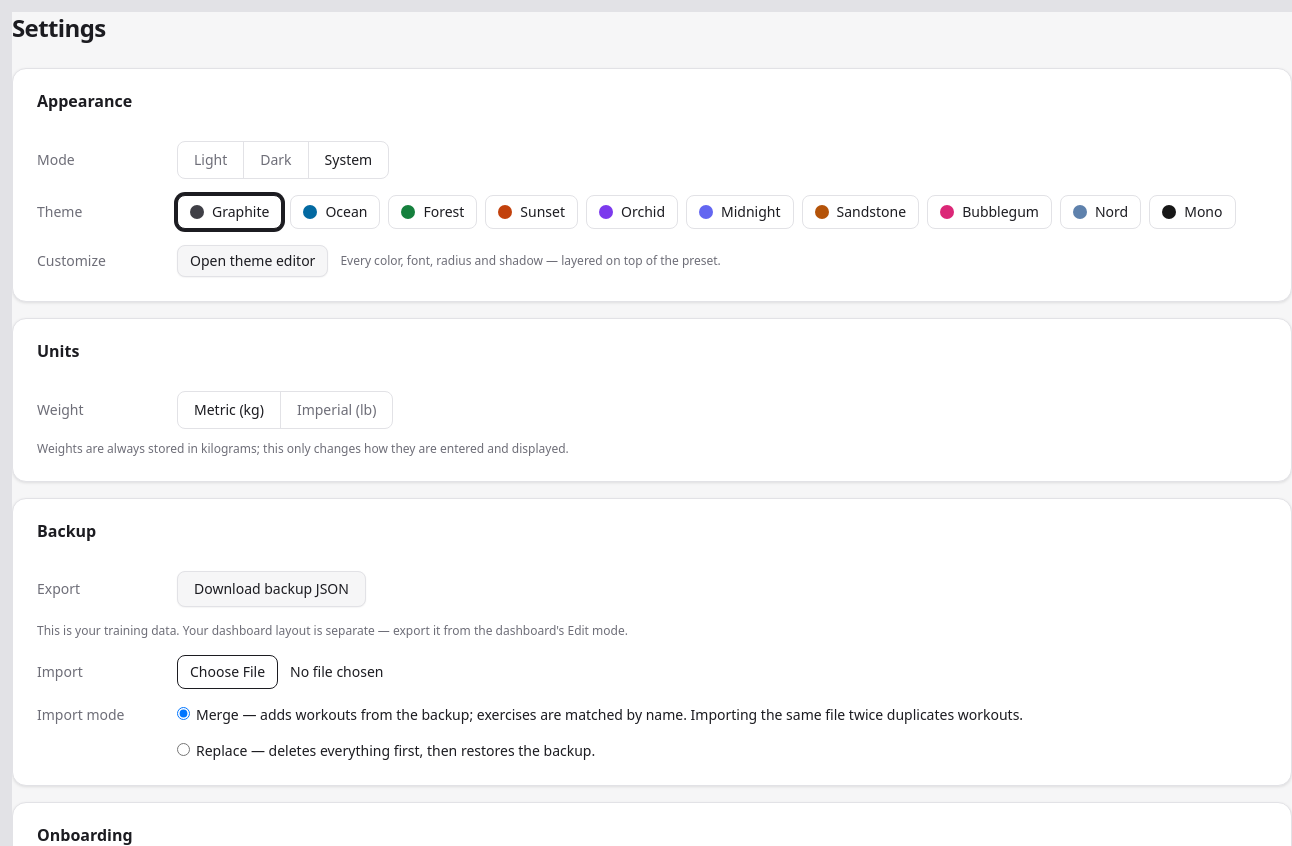
Test: SettingsPage theme editor › ignores a half-typed hex instead of committing it
Click the button "Open theme editor". click: click(253, 261)
box: [177, 245, 328, 277]
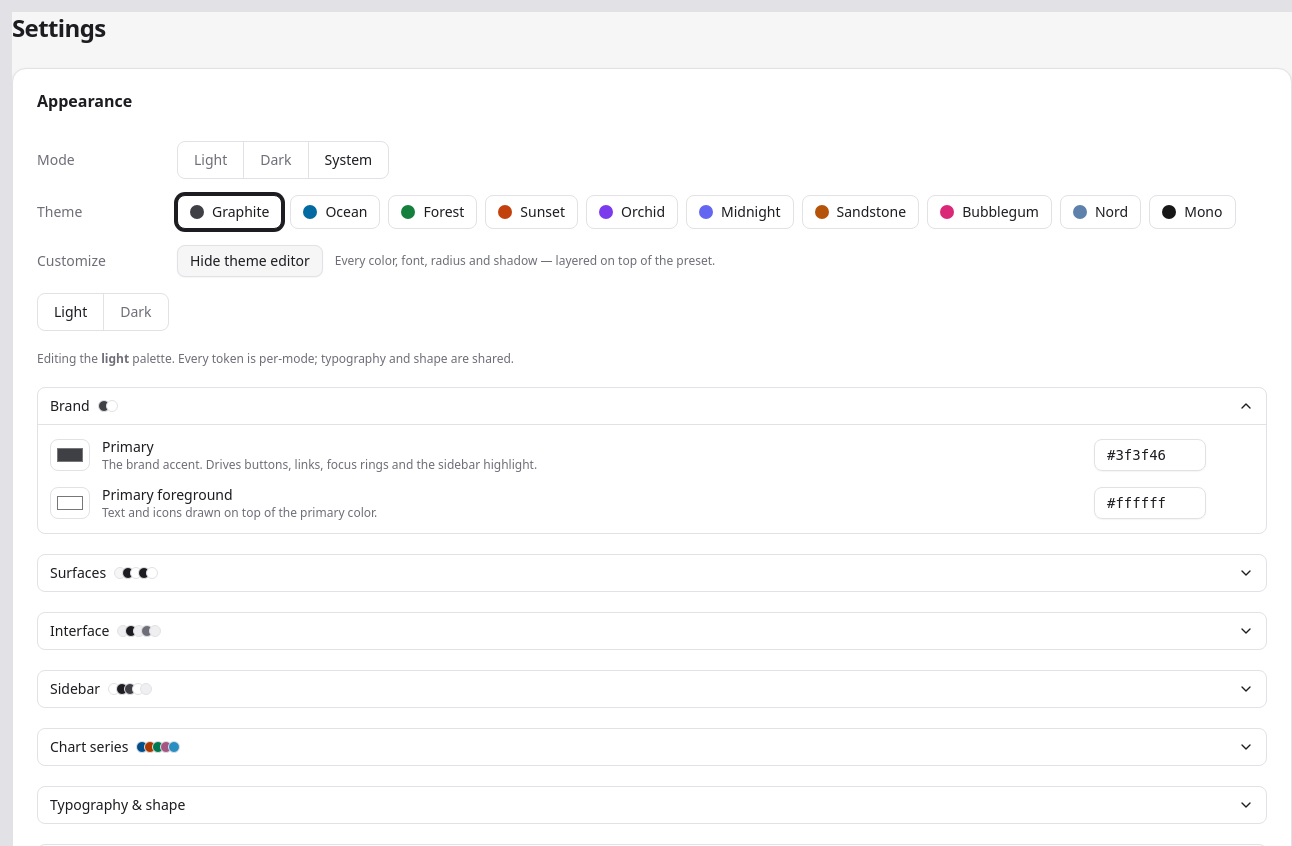
Replace the text in the field named "Primary hex" with "#12". click: (1150, 455)
box: [1094, 439, 1206, 471]
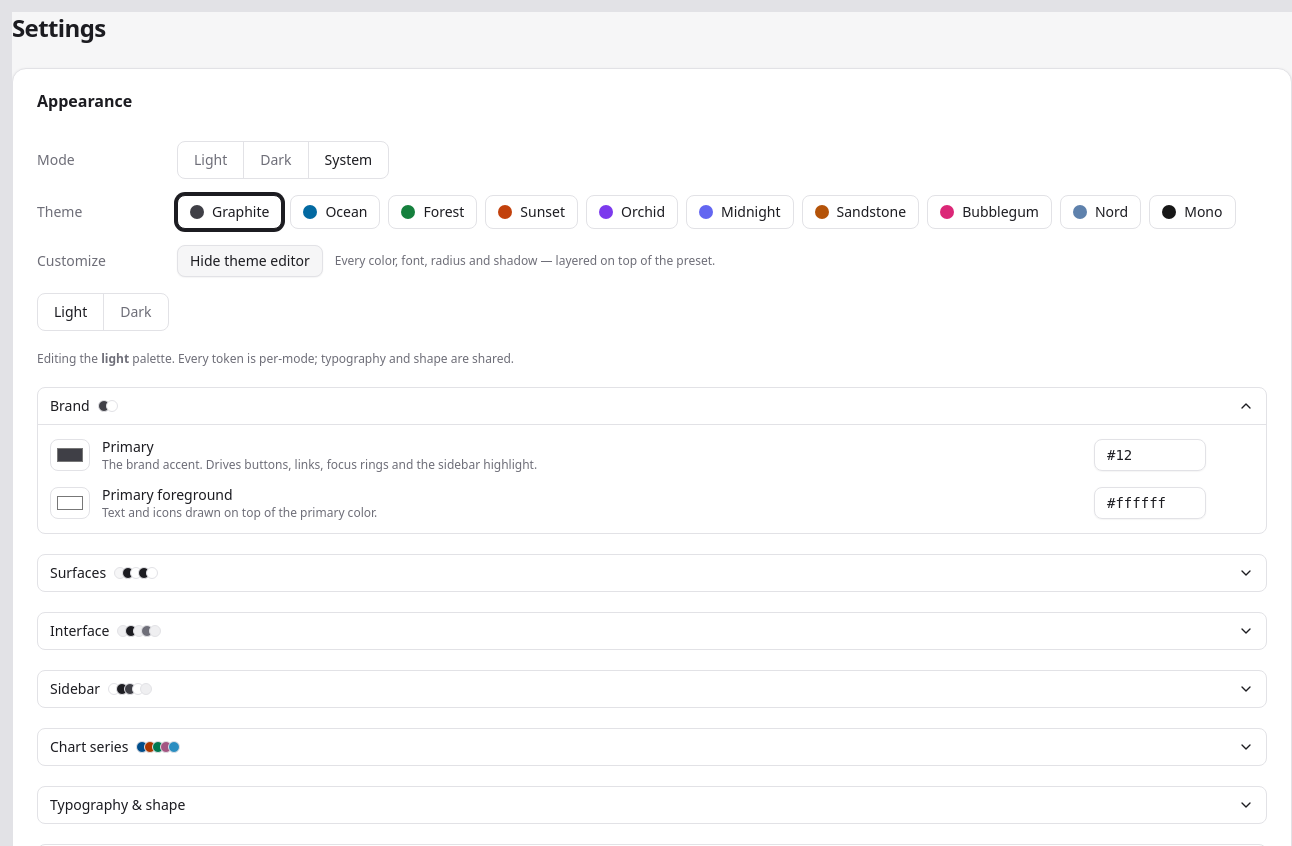
Leave the field named "Primary hex", box [1094, 439, 1206, 471]
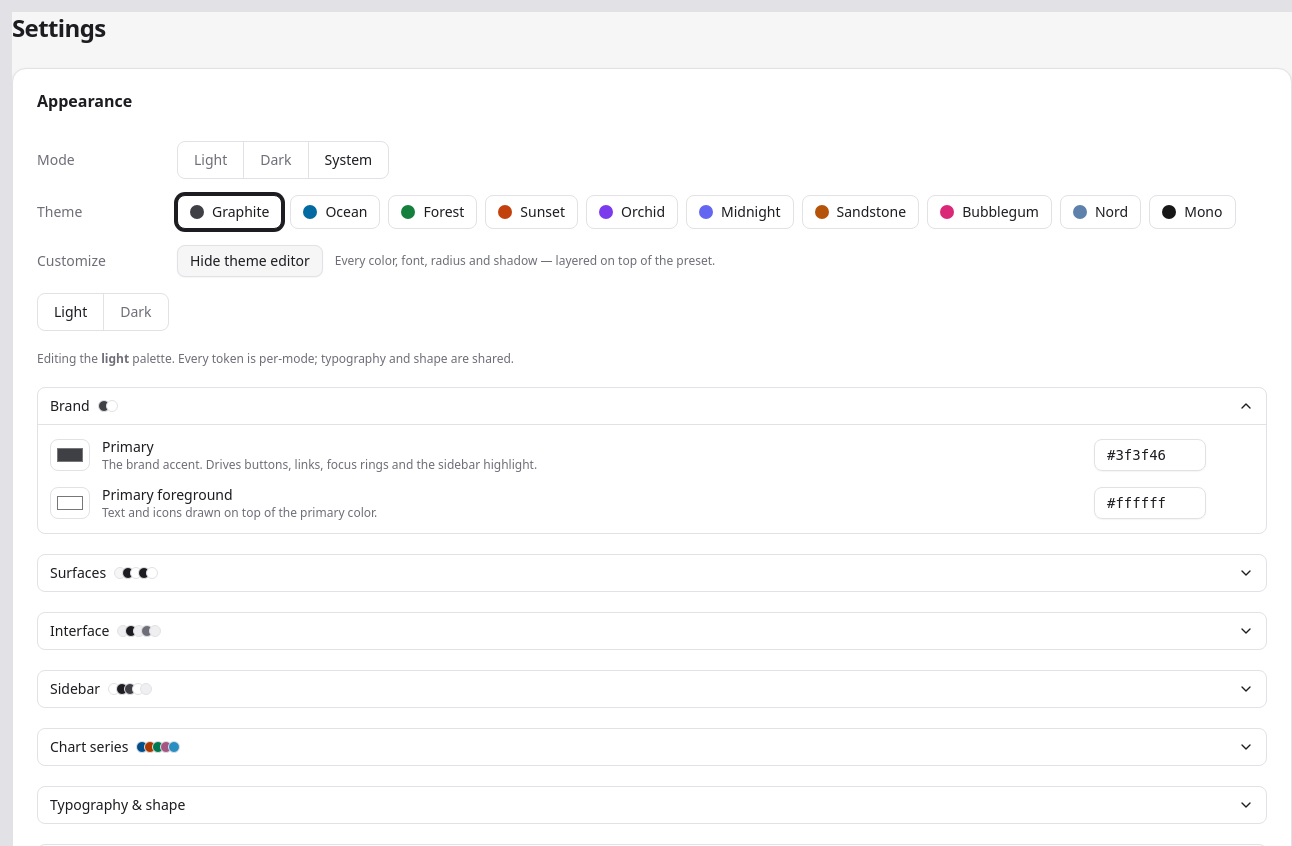
Result: the field named "Primary hex" holds "#3f3f46" at [1094, 439, 1206, 471]
